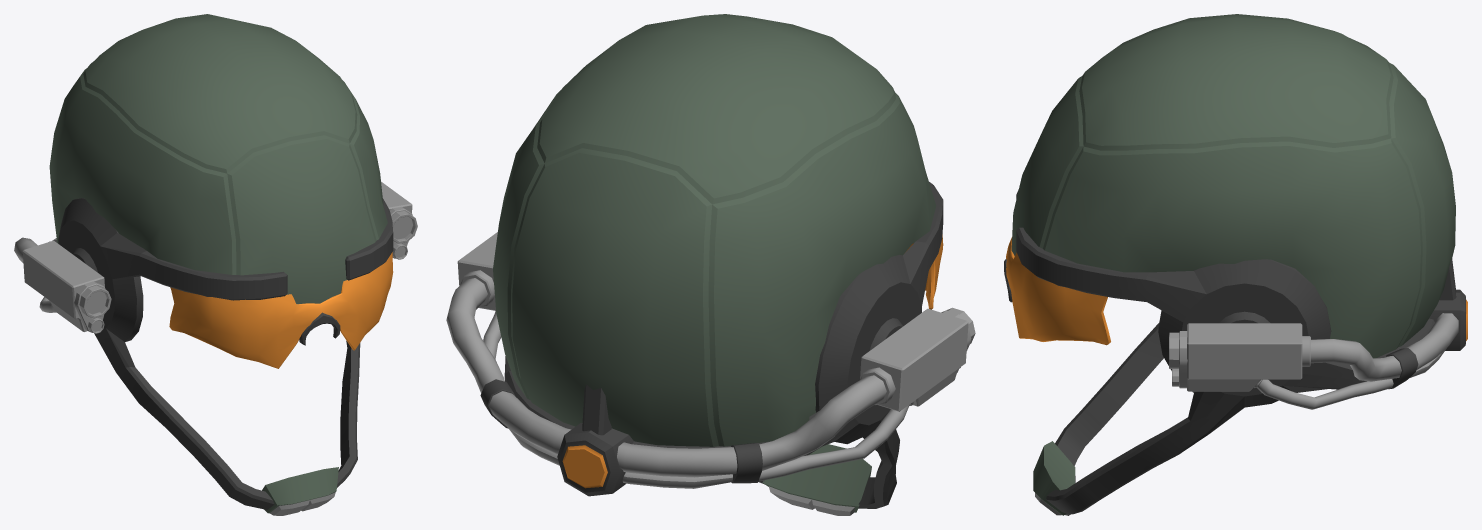
File: Helmet.fbx
3 renders of one model, left to right at view 1: azimuth 30°, elevation 25°; view 2: azimuth 150°, elevation 25°; view 3: azimuth 270°, elevation 25°, orthographic. The views are drawn at different scales.
Visible parts, largest first — view 1: pCube24; view 2: pCube24; view 3: pCube24.
Boxes of the visible parts, bbox=[...] form: pCube24: bbox=[14, 14, 417, 515]; pCube24: bbox=[446, 14, 975, 515]; pCube24: bbox=[1004, 14, 1467, 515].
Size of the model in its own units: 23.24 by 27.06 by 24.17.
1 material, 1 textured.
